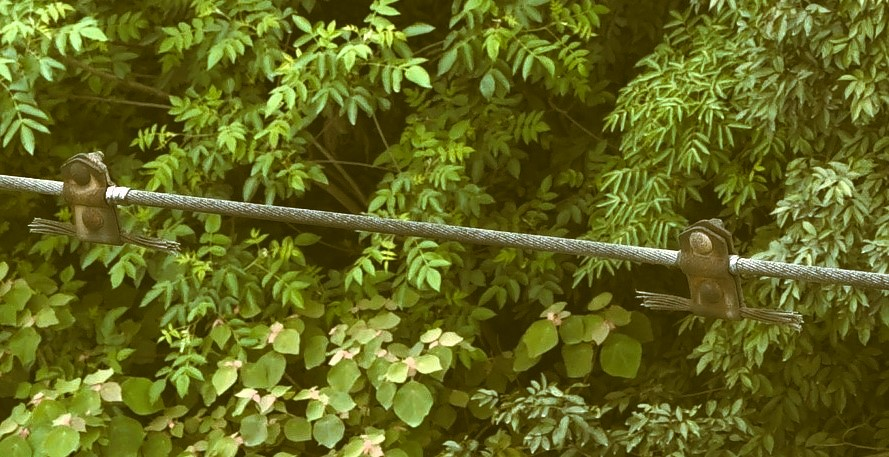Damage of shockproof hammer: (627, 212, 814, 333), (24, 150, 187, 263)
